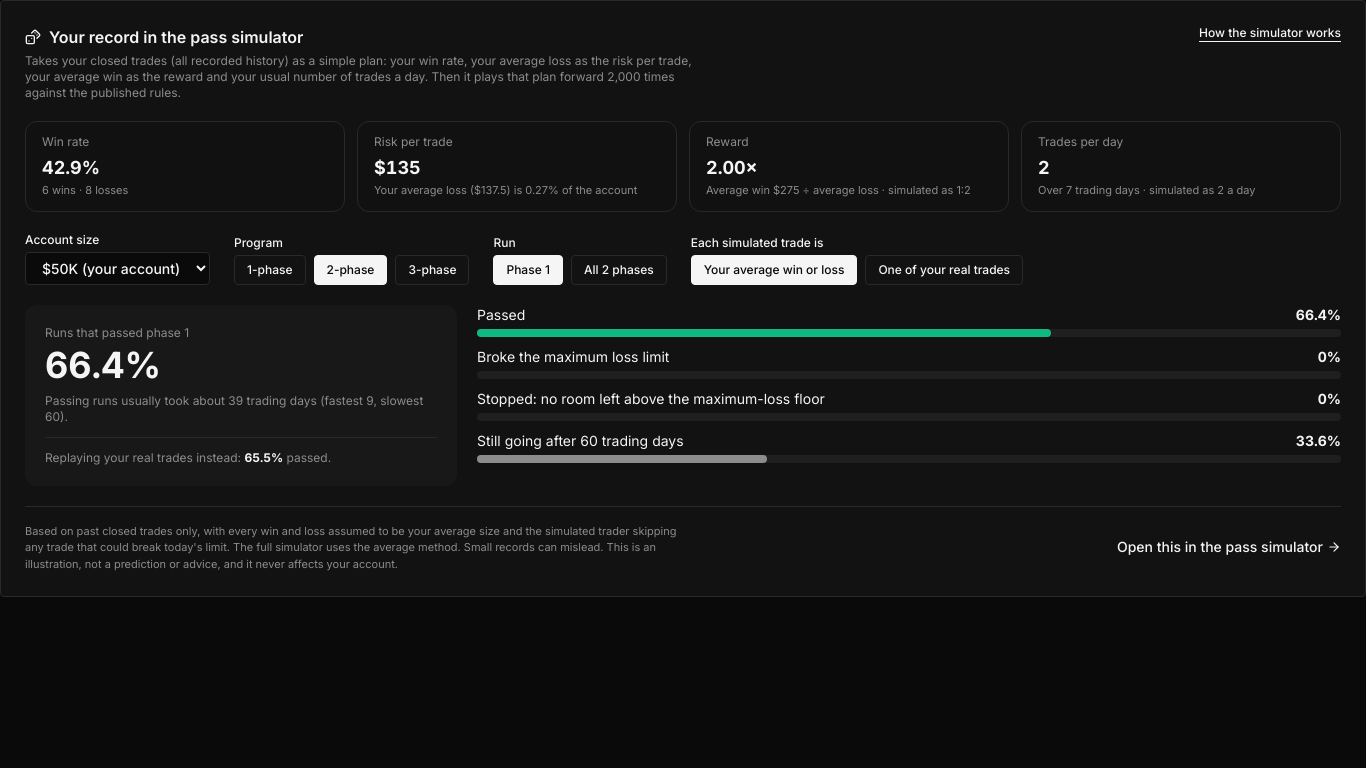
JournalSimulatorCard replay › switches to replaying real trades and compares with the average method
Expected: the element with test id "journal-sim-compare" shows "Replaying your real trades instead", top-left (45, 450), bottom-right (238, 464)
Click the button "One of your real trades" at (944, 270), box top-left (865, 254), bottom-right (1023, 284)
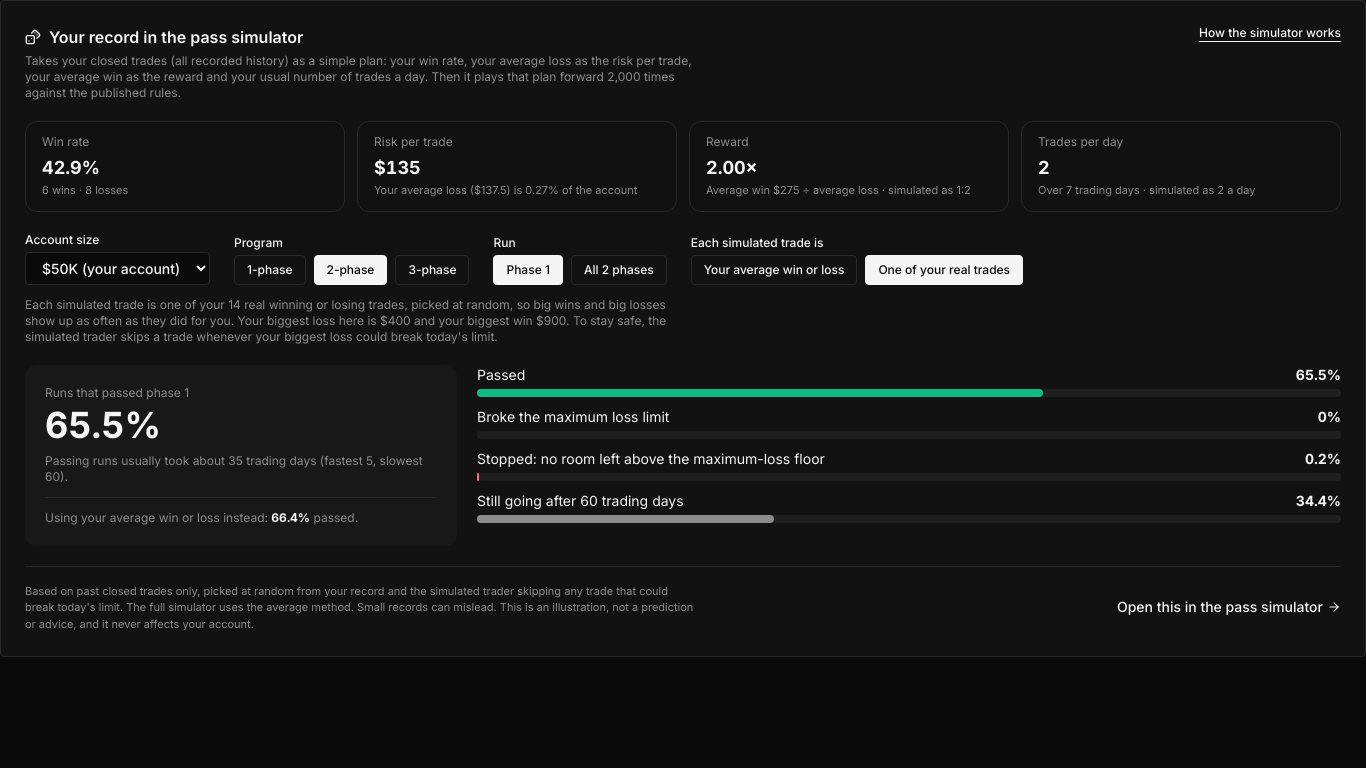
Now the text with test id "journal-sim-replay-note" shows "14 real winning or losing trades", box top-left (25, 296), bottom-right (697, 344)
Now the text with test id "journal-sim-replay-note" shows "biggest loss here is $400", box top-left (25, 296), bottom-right (697, 344)
Now the text with test id "journal-sim-replay-note" shows "biggest win $900", box top-left (25, 296), bottom-right (697, 344)
